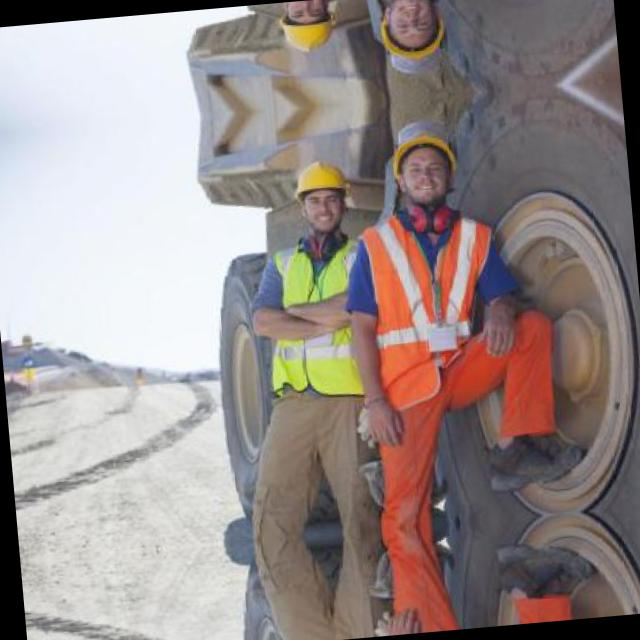helmet: (375, 110, 467, 218), (364, 0, 456, 85), (286, 154, 354, 235), (272, 0, 340, 59)
